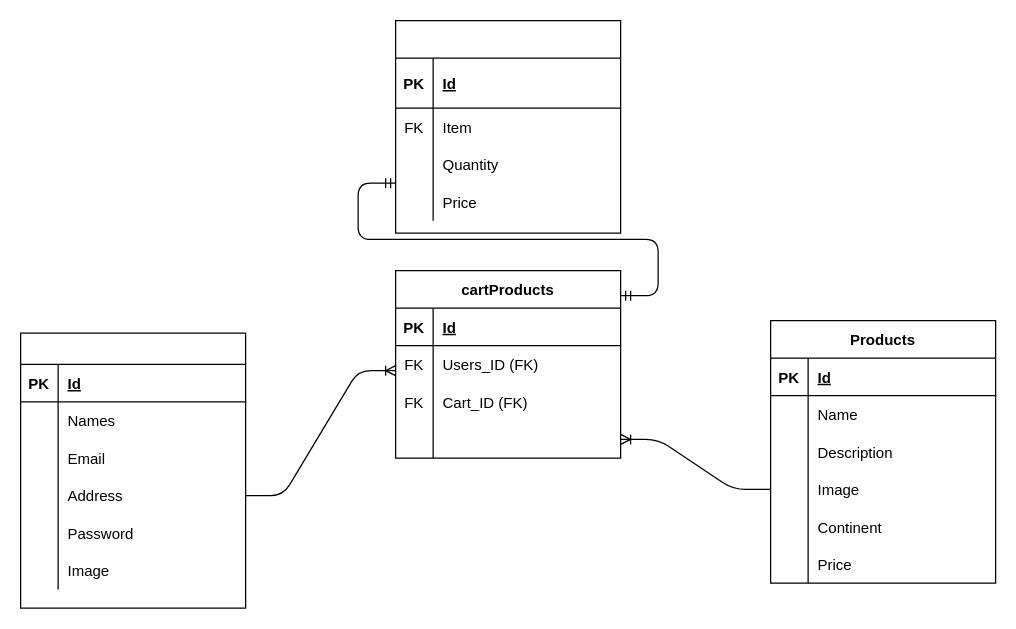
Image size: 1016x629. Some labels were removed from this diagram. Each missing label, with the box of its shape:
cart: (394, 19, 621, 233)
Users: (19, 332, 246, 608)
